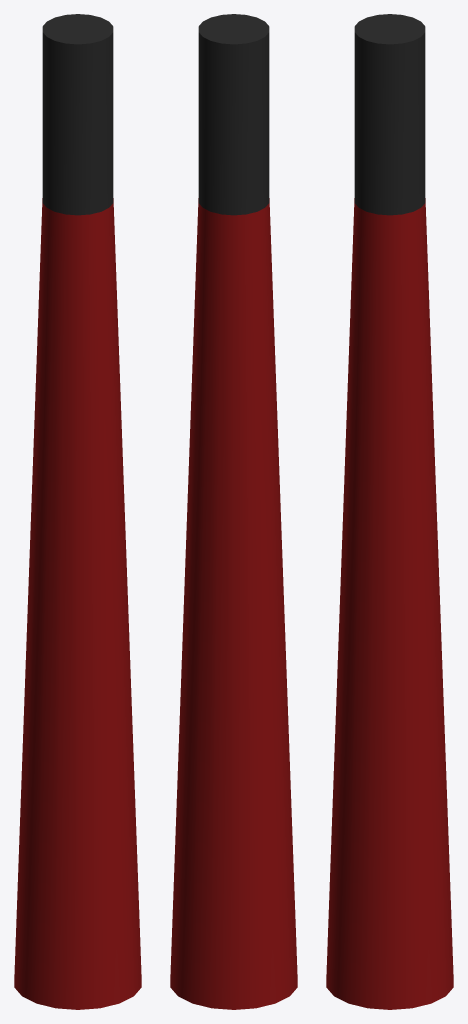
The model's file is MOD_pilierB4.FBX.
3 views of the same model, side by side, from view 1: azimuth 30°, elevation 25°; view 2: azimuth 210°, elevation 25°; view 3: azimuth 330°, elevation 25° (orthographic).
Visible parts, largest first — view 1: mod_Pilierb; view 2: mod_Pilierb; view 3: mod_Pilierb.
Boxes of the visible parts, x1=… form: mod_Pilierb: x1=14, y1=14, x2=141, y2=1009; mod_Pilierb: x1=170, y1=14, x2=297, y2=1009; mod_Pilierb: x1=326, y1=14, x2=453, y2=1009.
Bounding box in the file's own units: 0.2869 × 2.34 × 0.2826.
